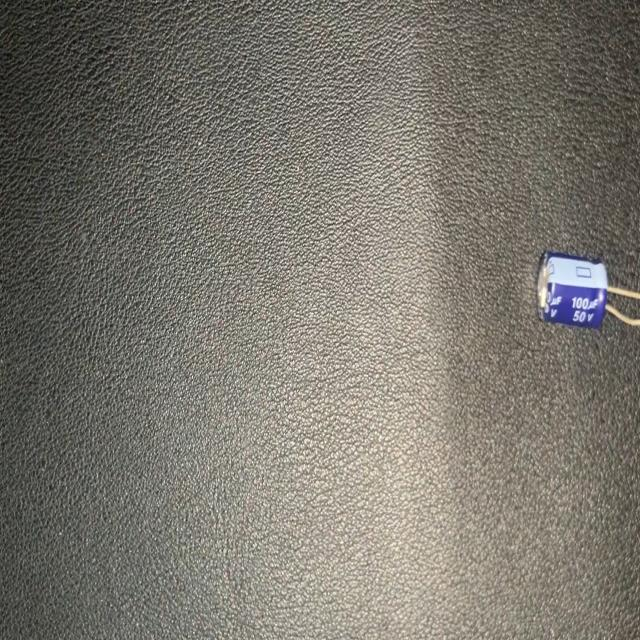capacitor: (534, 252, 640, 328)
